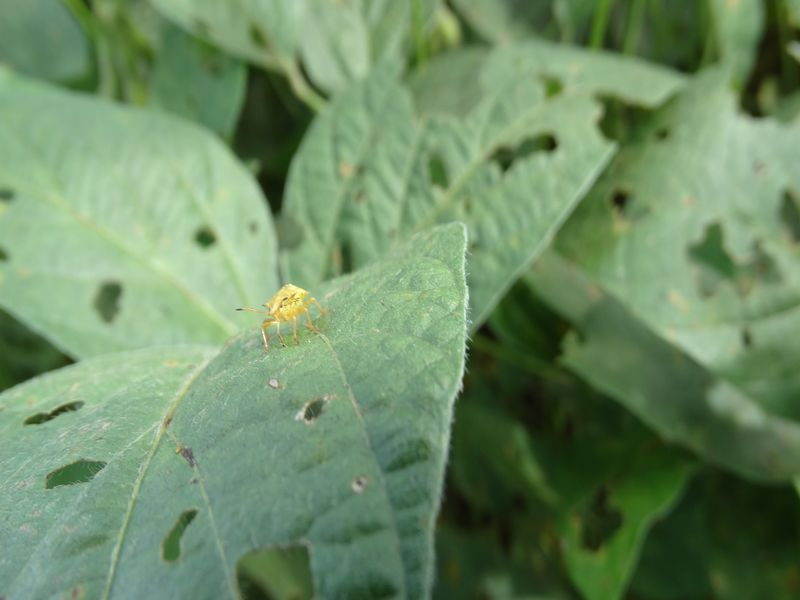Euschistus_heros_ninfa: (230, 273, 336, 361)
